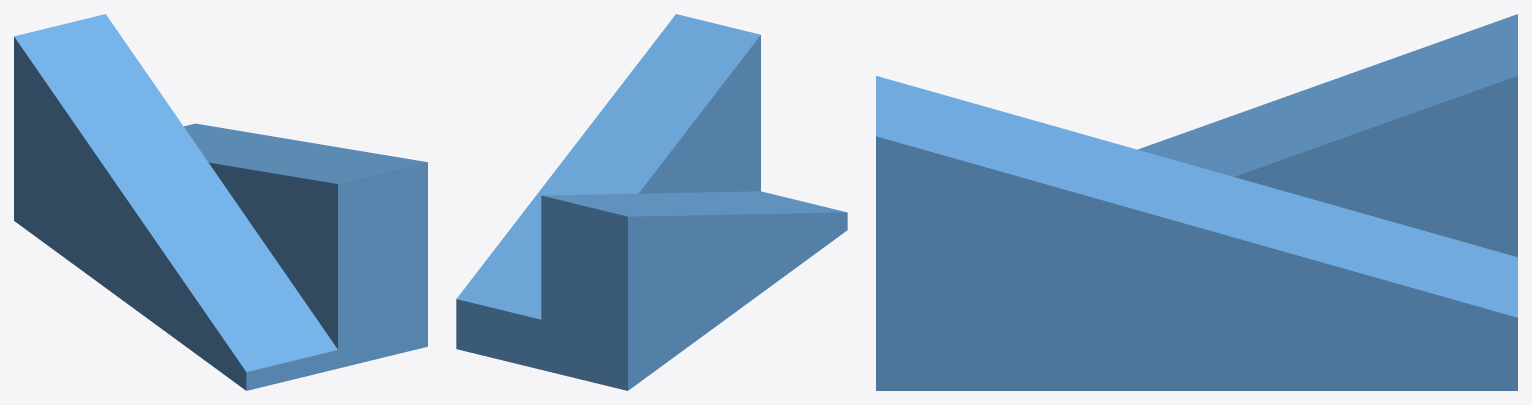
The model's file is building_1x2_8_r.glb.
The picture shows the model from 3 angles, left to right: view 1: azimuth 30°, elevation 25°; view 2: azimuth 150°, elevation 25°; view 3: azimuth 270°, elevation 25°; orthographic projection. The views are drawn at different scales.
Visible parts, largest first — view 1: Cube.002; view 2: Cube.002; view 3: Cube.002.
Part boxes in pixels (x1,y1,x2,y2): Cube.002: (14,14,427,390); Cube.002: (456,14,847,390); Cube.002: (876,14,1517,390).
Bounding box in the file's own units: 1.65 × 1.6 × 3.65.
